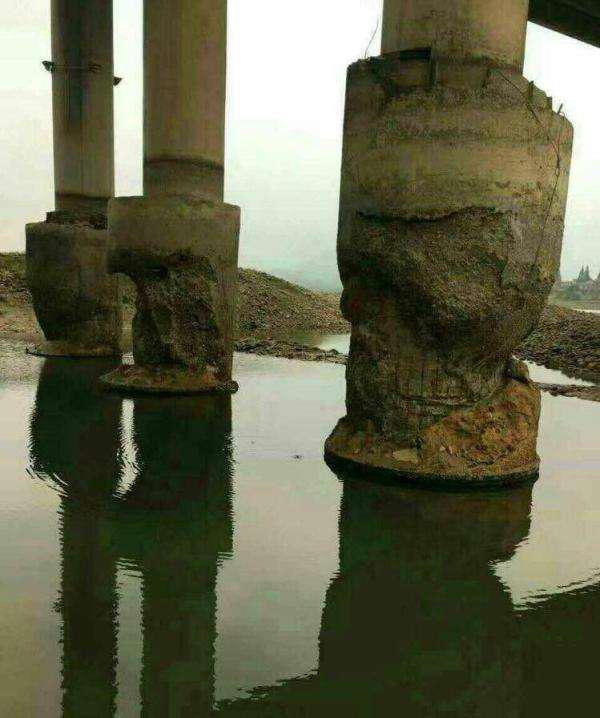Spalling: (323, 203, 558, 478), (97, 245, 239, 393), (25, 277, 122, 358)
